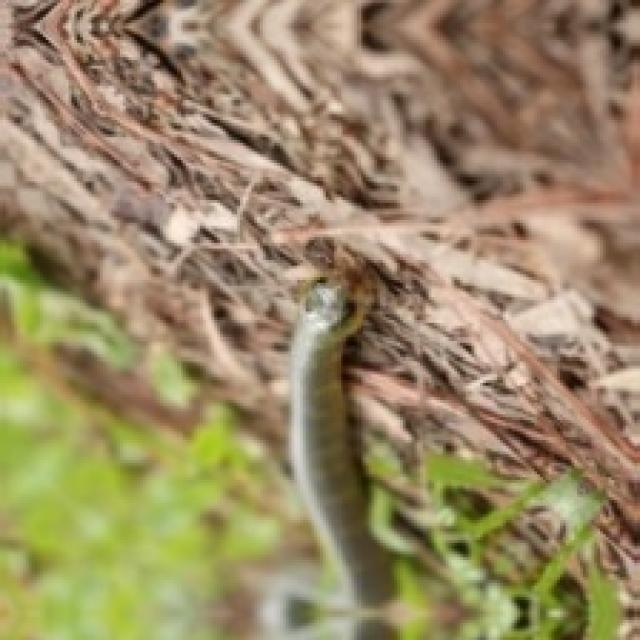gunthers philippine shrub snake: (289, 277, 391, 606)
